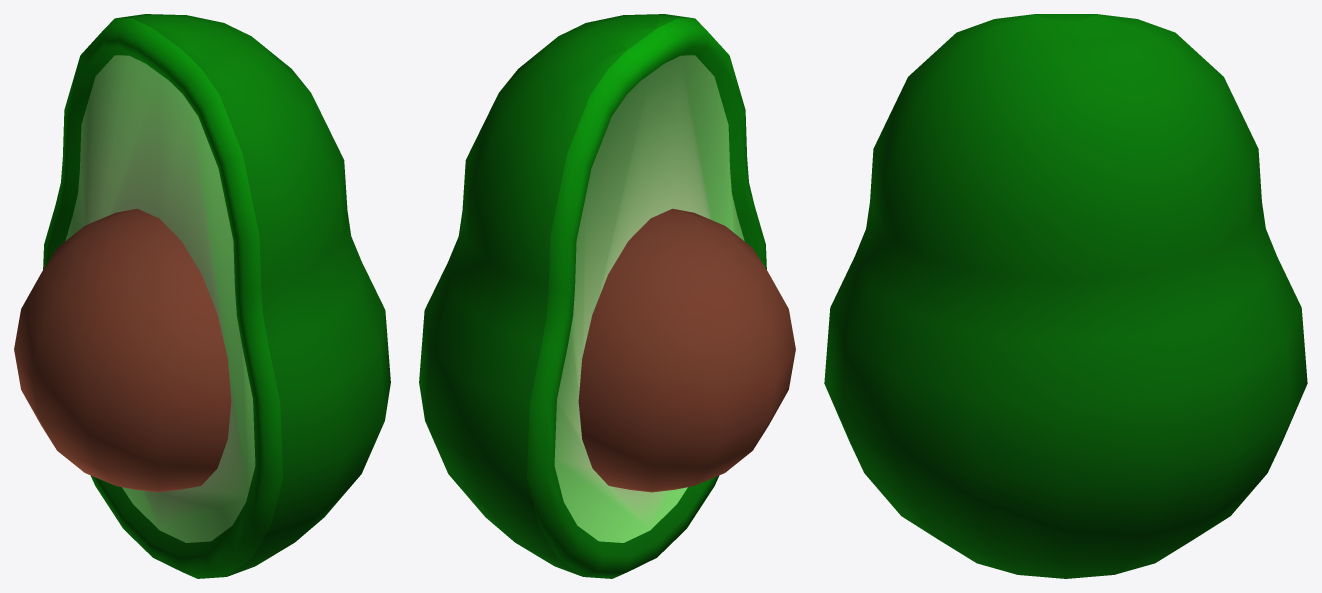
Rendered from Avocado_V1_01.fbx.
The picture shows the model from 3 angles, left to right: view 1: azimuth 30°, elevation 25°; view 2: azimuth 150°, elevation 25°; view 3: azimuth 270°, elevation 25°; orthographic projection. The views are drawn at different scales.
Parts seen in each view (by area): view 1: Avocado_V1_01; view 2: Avocado_V1_01; view 3: Avocado_V1_01.
Boxes of the visible parts, x1,y1,x2,y2 form: Avocado_V1_01: (14, 14, 390, 578); Avocado_V1_01: (419, 14, 795, 578); Avocado_V1_01: (824, 14, 1307, 578).
Bounding box in the file's own units: 25.16 × 38.42 × 30.75.
